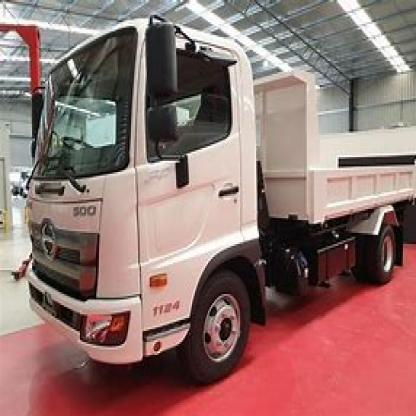dump_truck: (31, 15, 414, 381)
